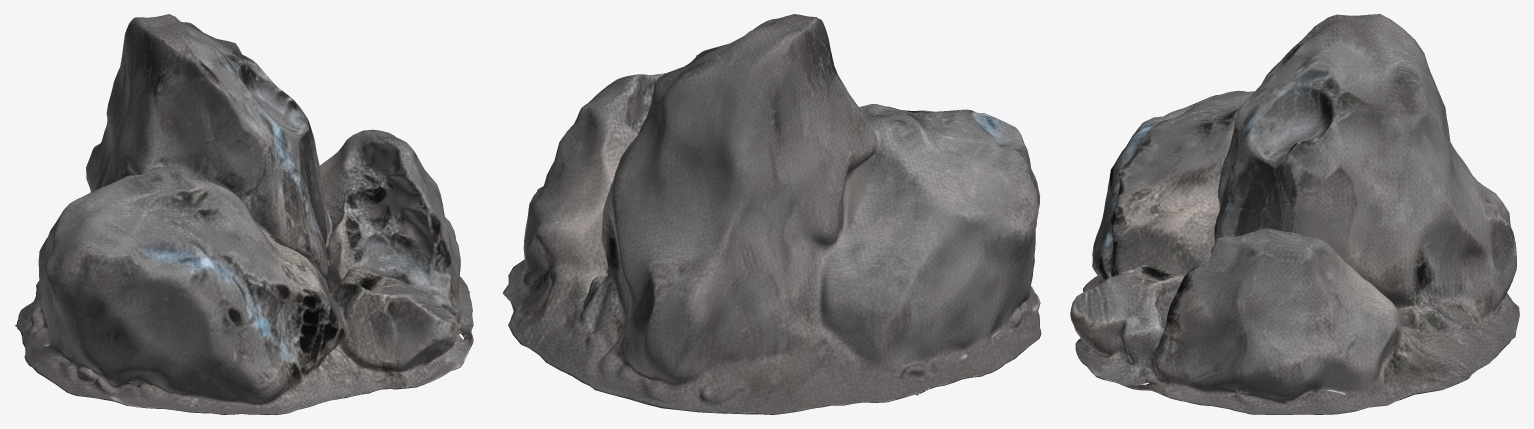
The model's file is BigRock_base_basic_pbr.glb.
3 views of the same model, side by side, from view 1: azimuth 30°, elevation 25°; view 2: azimuth 150°, elevation 25°; view 3: azimuth 270°, elevation 25° (orthographic). The views are drawn at different scales.
Parts seen in each view (by area): view 1: model; view 2: model; view 3: model.
Part boxes in pixels (x1,y1,x2,y2): model: (15,14,473,414); model: (503,14,1041,414); model: (1070,14,1519,414).
Size of the model in its own units: 1.89 by 1.27 by 1.81.
1 material, 1 textured.
